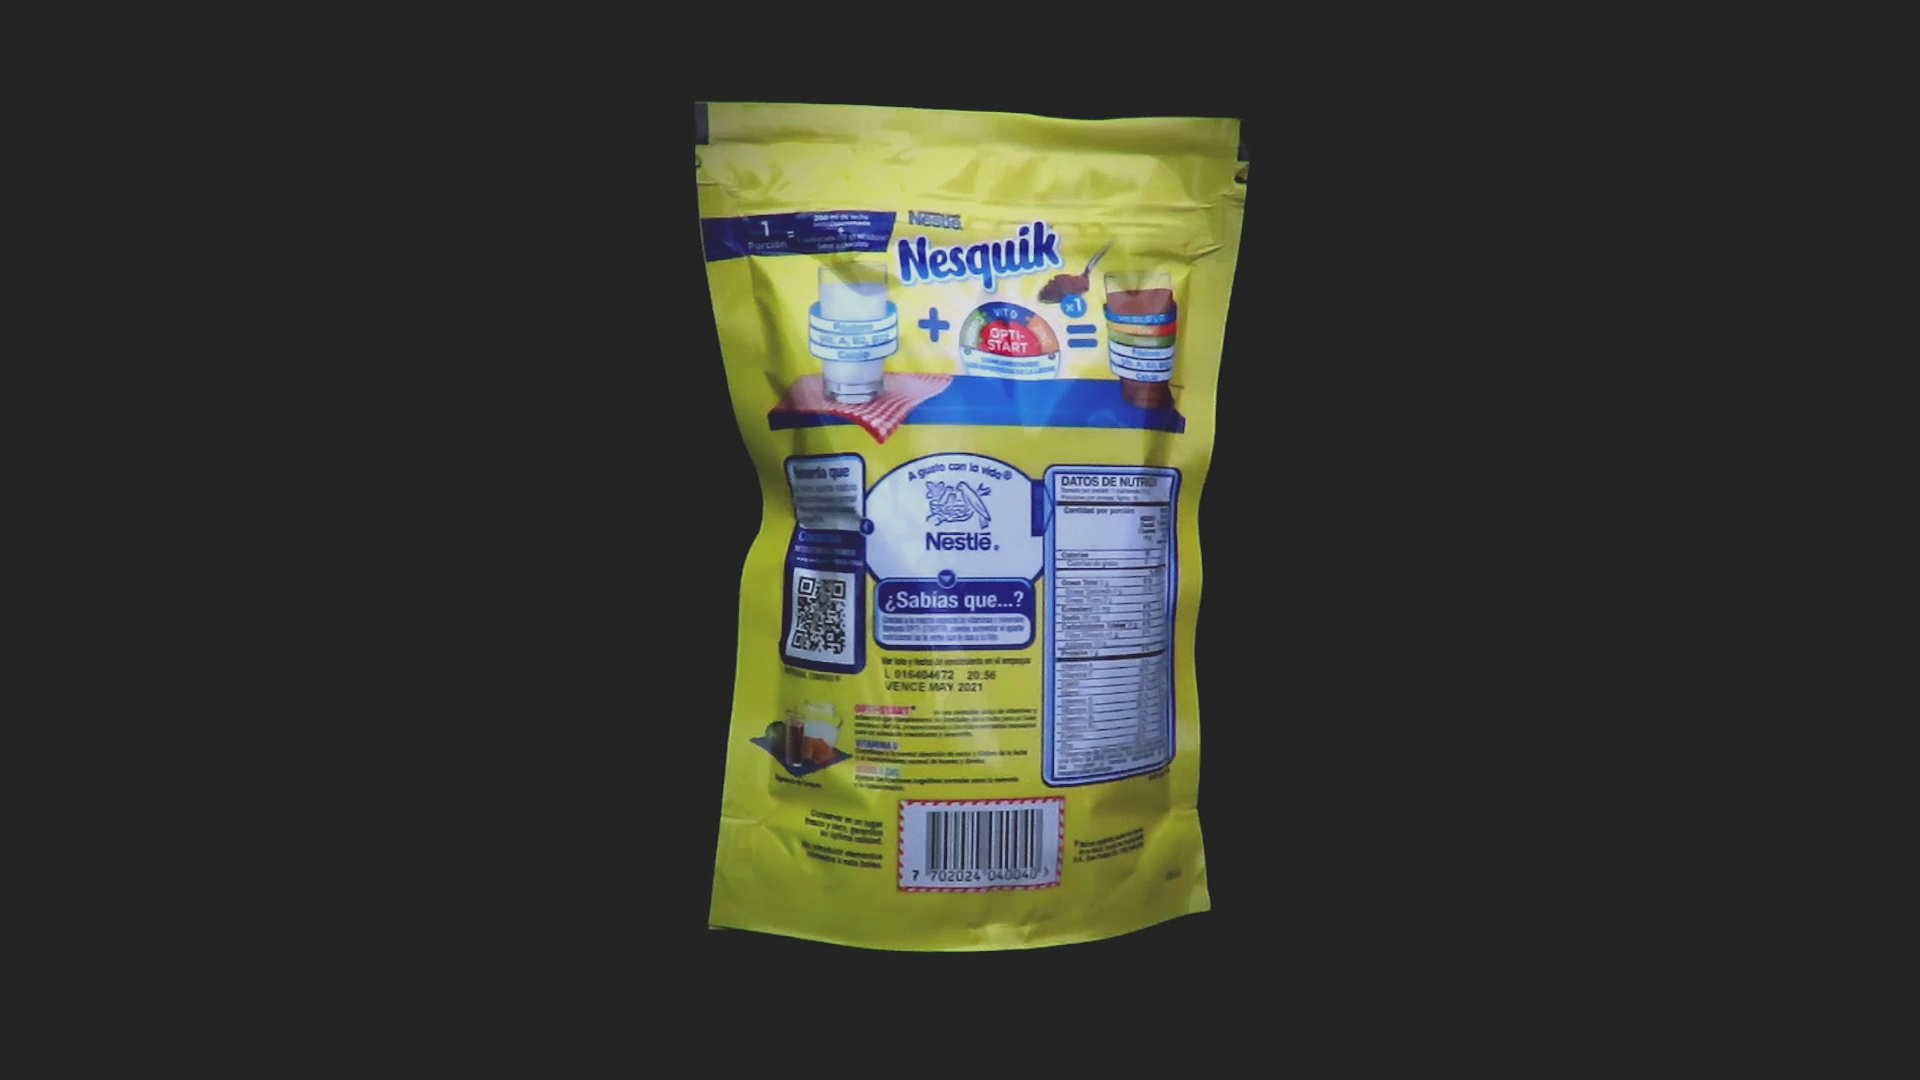COL0170303DYP20000: (690, 96, 1255, 957)
